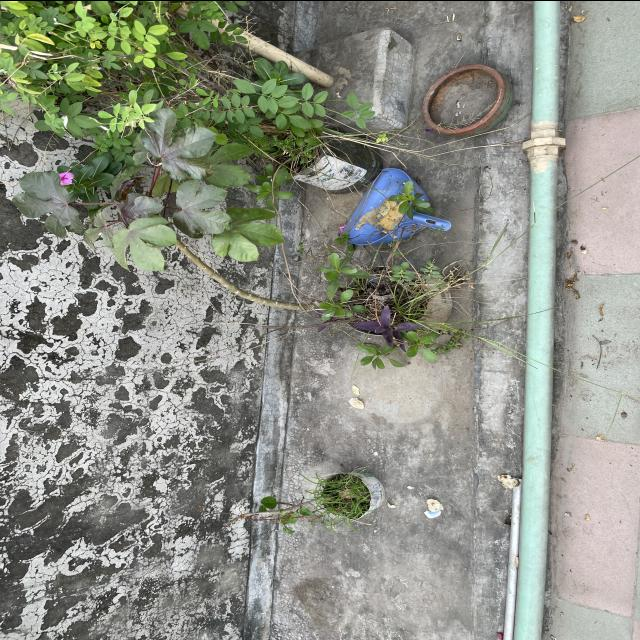Breeding Place: (346, 164, 448, 236), (422, 64, 520, 138), (286, 132, 382, 190), (317, 473, 390, 517)
